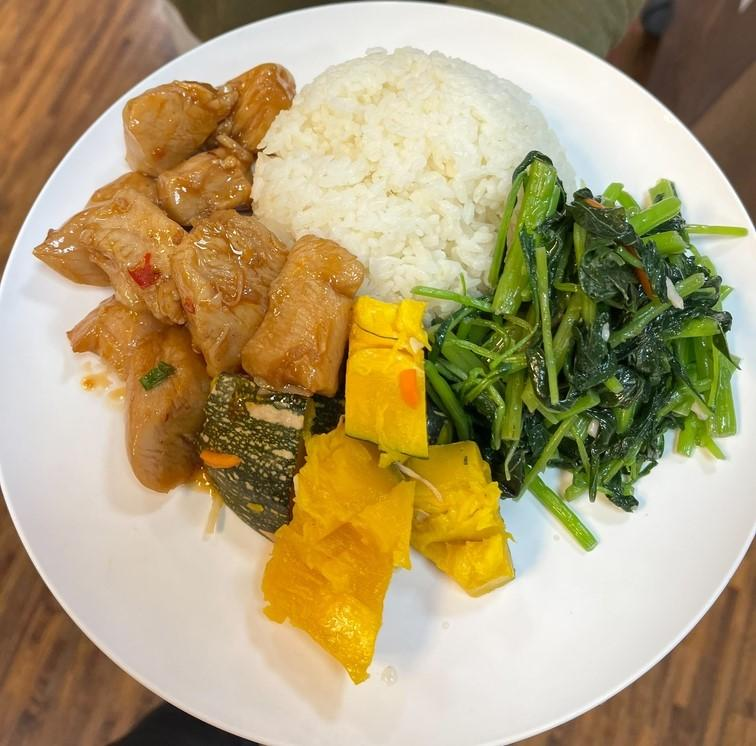big fried chicken leg: (2, 10, 756, 746)
big herbal chicken leg: (259, 37, 570, 308)
braised fish fillet: (427, 154, 744, 546), (203, 289, 507, 668)
braised pork: (39, 47, 355, 492)
